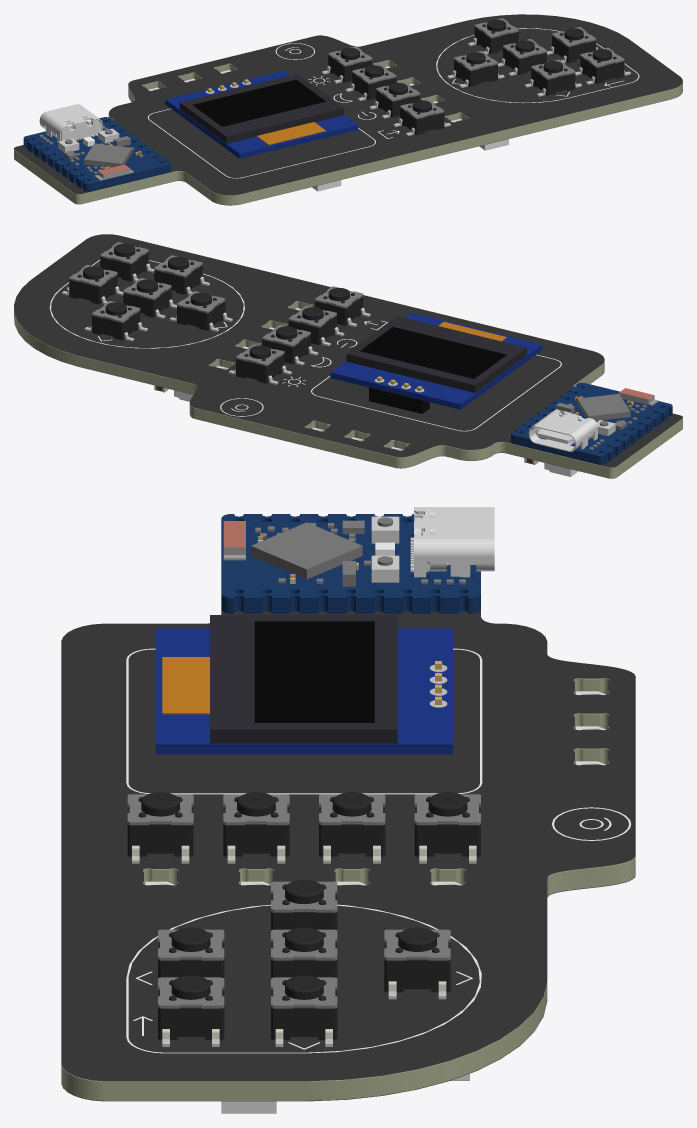
File: planch-viewer.glb
The picture shows the model from 3 angles, top to bottom: view 1: azimuth 30°, elevation 25°; view 2: azimuth 150°, elevation 25°; view 3: azimuth 270°, elevation 25°; orthographic projection. The views are drawn at different scales.
Visible parts, largest first — view 1: planch_mat_28, planch_mat_0, planch_mat_30, planch_mat_10, planch_mat_7, planch_mat_1, planch_mat_8, planch_mat_3, planch_mat_15, planch_mat_26, planch_mat_2, planch_mat_16 (+5 smaller); view 2: planch_mat_28, planch_mat_0, planch_mat_30, planch_mat_7, planch_mat_10, planch_mat_1, planch_mat_8, planch_mat_3, planch_mat_15, planch_mat_26, planch_mat_2, planch_mat_16 (+5 smaller); view 3: planch_mat_28, planch_mat_0, planch_mat_30, planch_mat_10, planch_mat_3, planch_mat_1, planch_mat_8, planch_mat_7, planch_mat_15, planch_mat_16, planch_mat_26, planch_mat_9 (+3 smaller).
Boxes of the visible parts, bbox=[...] form: planch_mat_28: bbox=[14, 14, 682, 195]; planch_mat_0: bbox=[328, 19, 624, 134]; planch_mat_30: bbox=[14, 60, 682, 205]; planch_mat_10: bbox=[23, 117, 170, 191]; planch_mat_7: bbox=[179, 74, 344, 143]; planch_mat_1: bbox=[328, 18, 624, 119]; planch_mat_8: bbox=[192, 79, 325, 126]; planch_mat_3: bbox=[165, 70, 358, 158]; planch_mat_15: bbox=[39, 104, 102, 142]; planch_mat_26: bbox=[147, 28, 639, 178]; planch_mat_2: bbox=[321, 37, 630, 135]; planch_mat_16: bbox=[65, 129, 132, 167]; planch_mat_28: bbox=[14, 234, 682, 467]; planch_mat_0: bbox=[69, 243, 363, 383]; planch_mat_30: bbox=[14, 301, 682, 478]; planch_mat_7: bbox=[346, 316, 526, 392]; planch_mat_10: bbox=[511, 382, 672, 464]; planch_mat_1: bbox=[69, 242, 363, 366]; planch_mat_8: bbox=[360, 327, 506, 378]; planch_mat_3: bbox=[330, 313, 542, 409]; planch_mat_15: bbox=[529, 410, 597, 451]; planch_mat_26: bbox=[49, 259, 561, 431]; planch_mat_2: bbox=[62, 263, 370, 384]; planch_mat_16: bbox=[559, 394, 630, 426]; planch_mat_28: bbox=[61, 610, 635, 1081]; planch_mat_0: bbox=[127, 792, 480, 1039]; planch_mat_30: bbox=[61, 678, 635, 1100]; planch_mat_10: bbox=[221, 514, 480, 613]; planch_mat_3: bbox=[155, 628, 452, 754]; planch_mat_1: bbox=[127, 794, 480, 1008]; planch_mat_8: bbox=[254, 621, 374, 722]; planch_mat_7: bbox=[210, 615, 397, 743]; planch_mat_15: bbox=[410, 507, 494, 577]; planch_mat_16: bbox=[251, 517, 392, 579]; planch_mat_26: bbox=[126, 648, 631, 1053]; planch_mat_9: bbox=[162, 657, 209, 714].
Bounding box in the file's own units: 0.12 × 0.0087 × 0.052.
